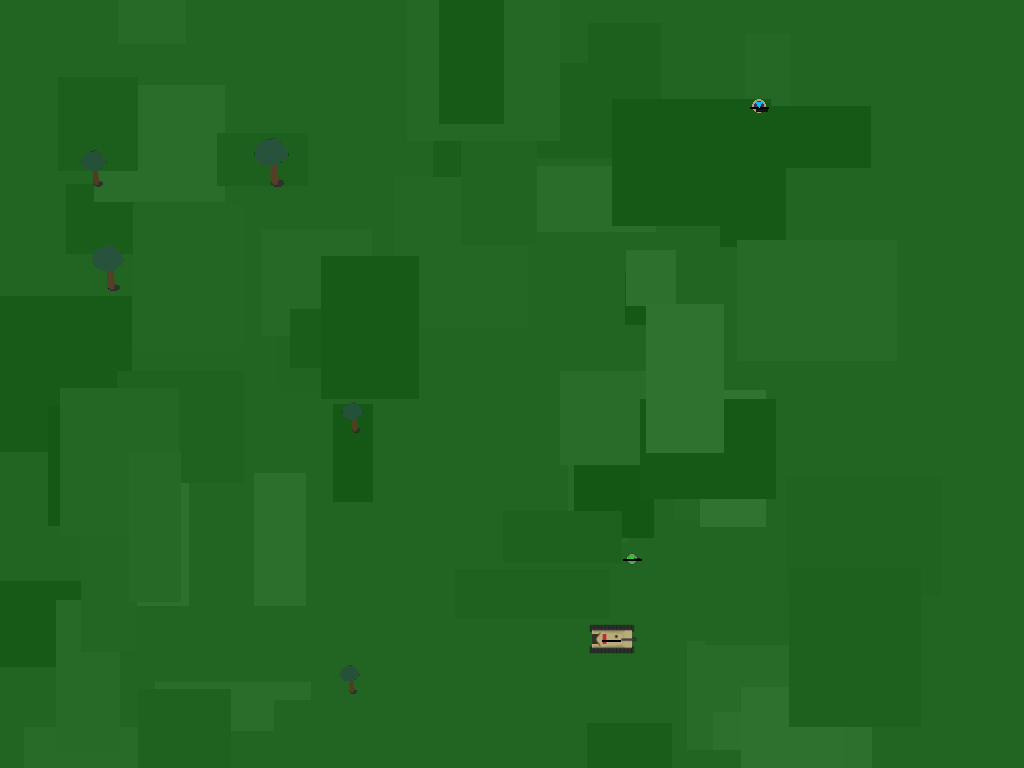M1A2_chn: (745, 92, 773, 120)
PowerPlant: (618, 545, 645, 572)
WZ10: (587, 615, 634, 662)
